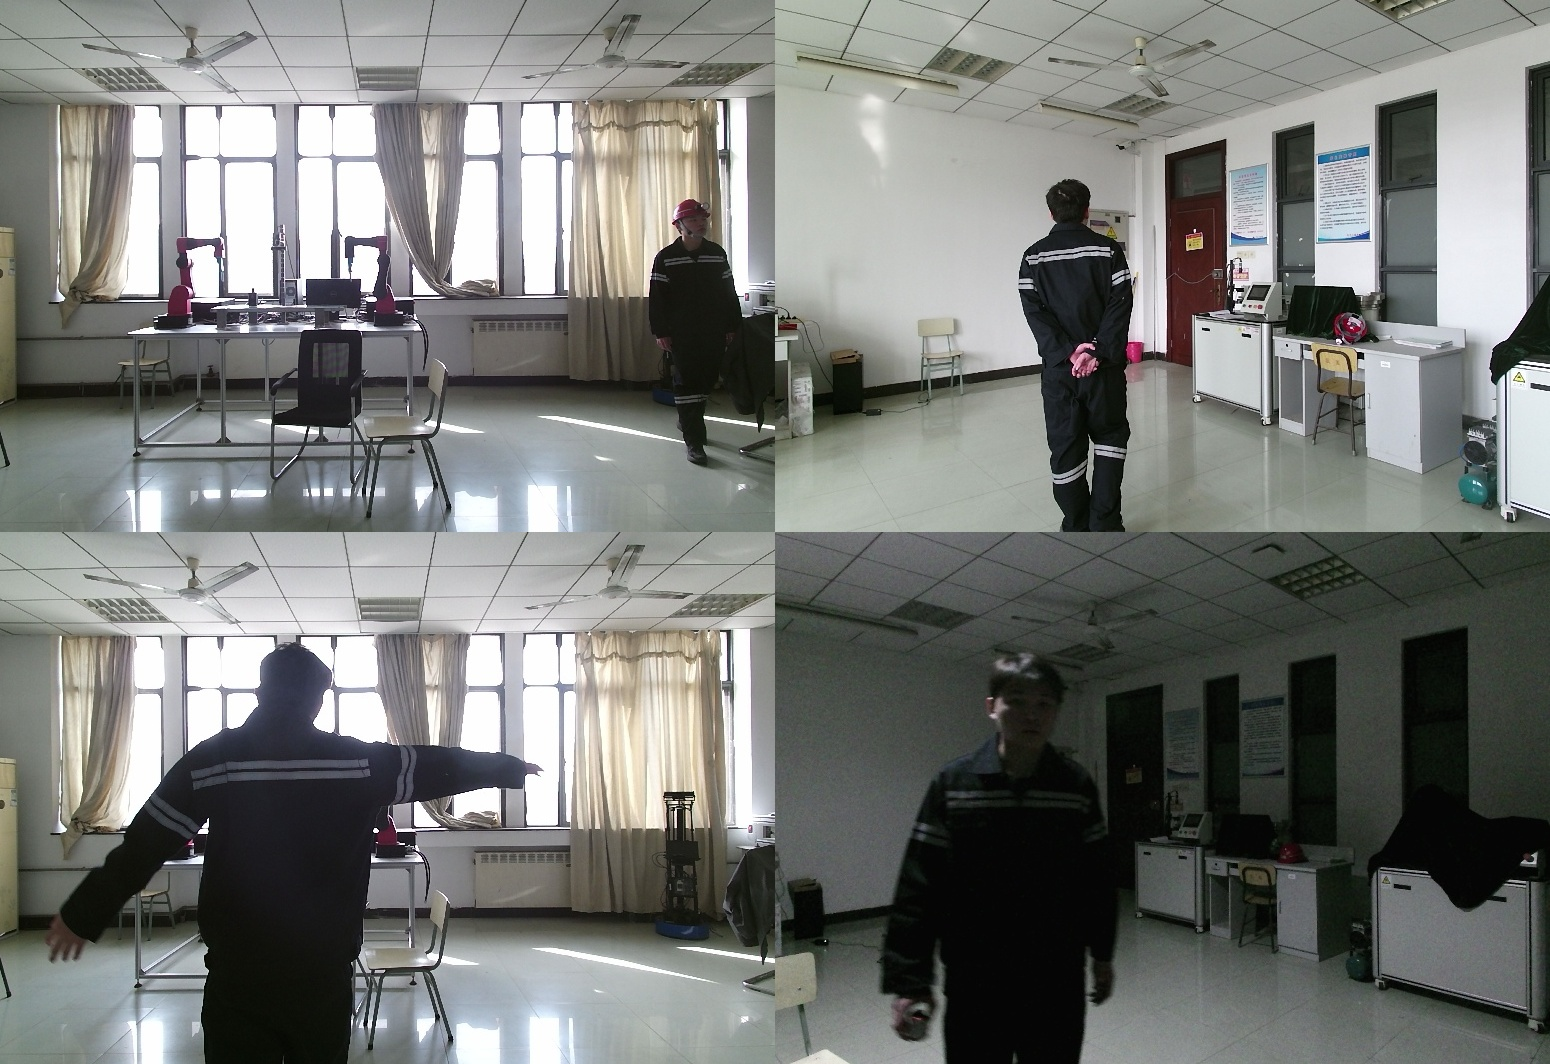person: (50, 645, 543, 1064), (880, 654, 1130, 1064), (1015, 178, 1147, 532), (648, 198, 742, 463)
